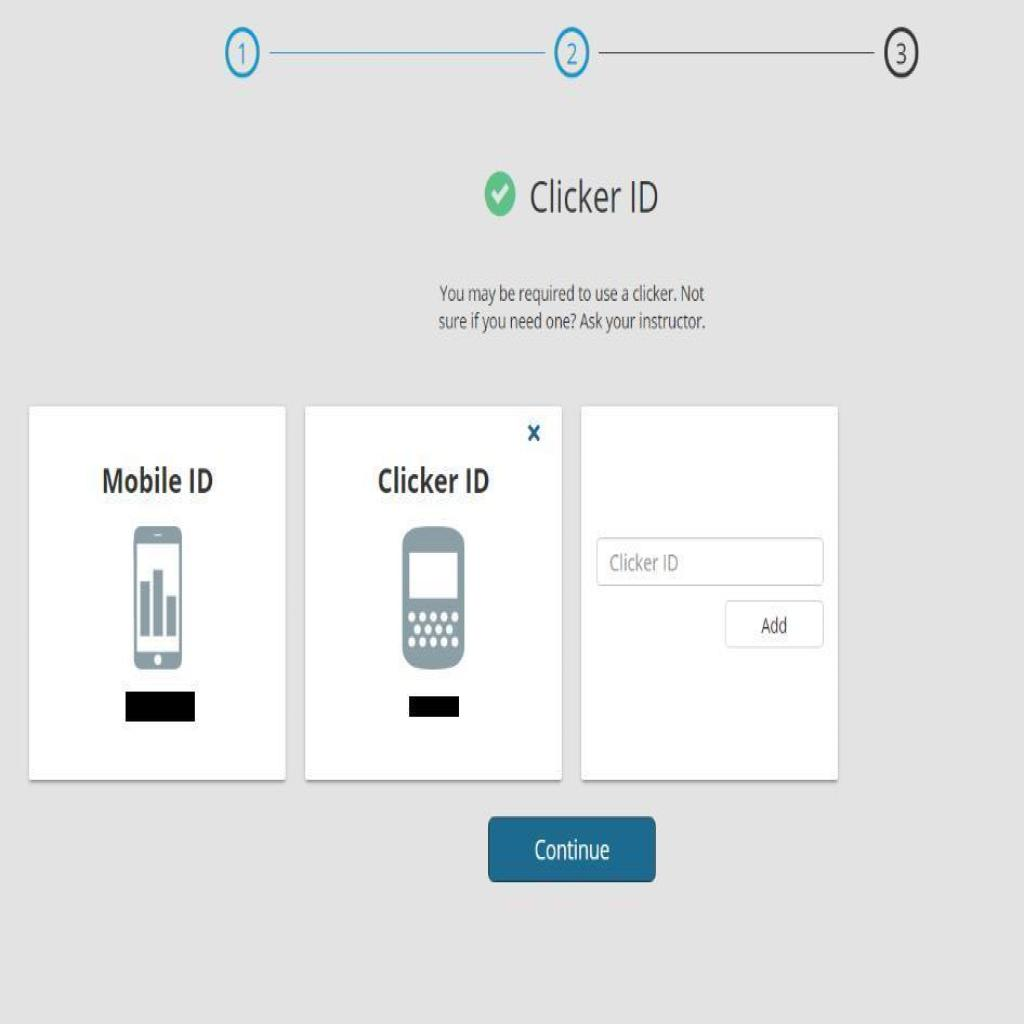button: (485, 816, 659, 882), (726, 602, 824, 647)
input: (597, 534, 825, 585)
